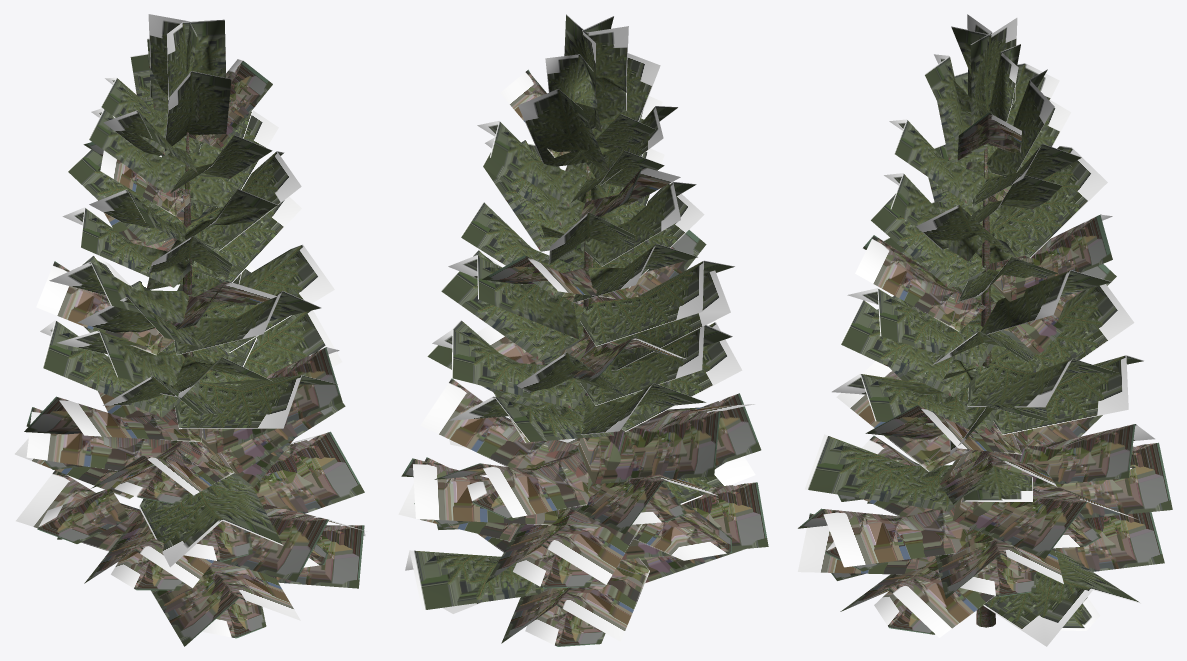
Rendered from Fir05-30.gltf.
The picture shows the model from 3 angles, left to right: view 1: azimuth 30°, elevation 25°; view 2: azimuth 150°, elevation 25°; view 3: azimuth 270°, elevation 25°; orthographic projection. The views are drawn at different scales.
Visible parts, largest first — view 1: FirLeaves, Fir05-30; view 2: FirLeaves; view 3: FirLeaves, Fir05-30.
Boxes of the visible parts, <box> form: FirLeaves: <box>15,14,366,646</box>; Fir05-30: <box>182,132,192,357</box>; FirLeaves: <box>398,14,768,646</box>; FirLeaves: <box>798,14,1172,646</box>; Fir05-30: <box>976,99,995,627</box>.
Bounding box in the file's own units: 63.94 × 121 × 68.99.
2 materials, 2 textured.
